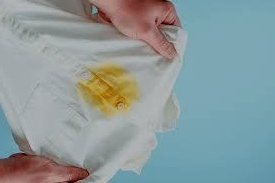mustard: (84, 72, 132, 110)
